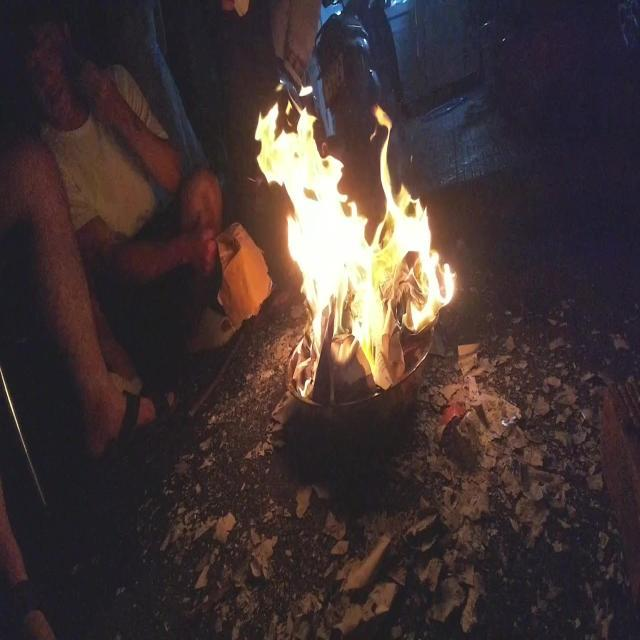Fire: (255, 80, 458, 402)
